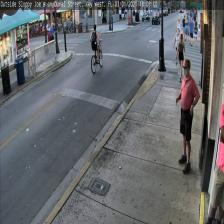person: (176, 60, 200, 174)
